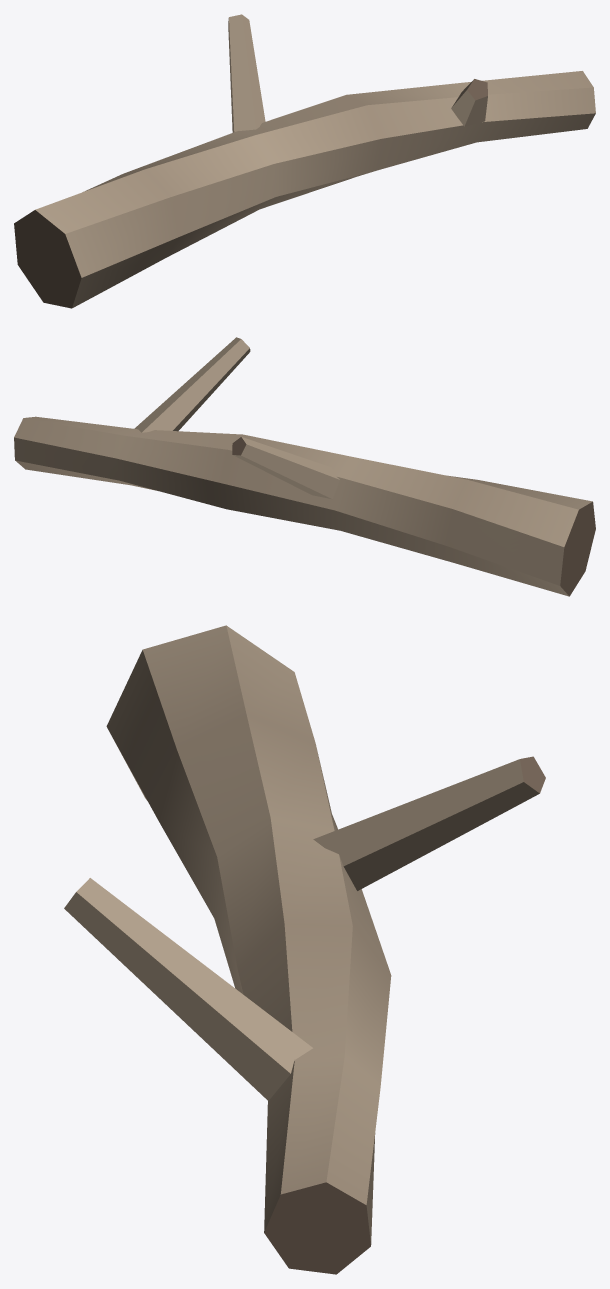
File: driftwood_b.glb
The picture shows the model from 3 angles, top to bottom: view 1: azimuth 30°, elevation 25°; view 2: azimuth 150°, elevation 25°; view 3: azimuth 270°, elevation 25°; orthographic projection. The views are drawn at different scales.
Parts seen in each view (by area): view 1: driftwood_b; view 2: driftwood_b; view 3: driftwood_b.
Boxes of the visible parts, box(x1,y1,x2,y2) form: driftwood_b: box(14, 14, 595, 308); driftwood_b: box(14, 337, 595, 596); driftwood_b: box(64, 625, 545, 1274).
Size of the model in its own units: 1.74 by 0.4686 by 0.6794.
